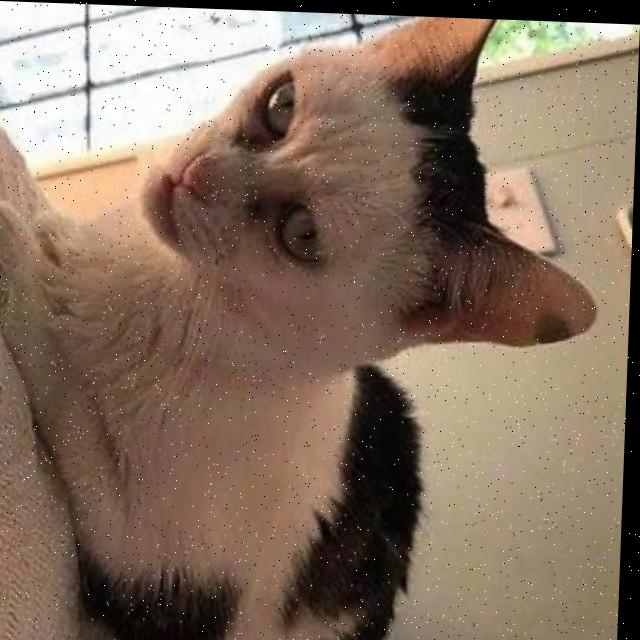Cats: (0, 0, 620, 640)
